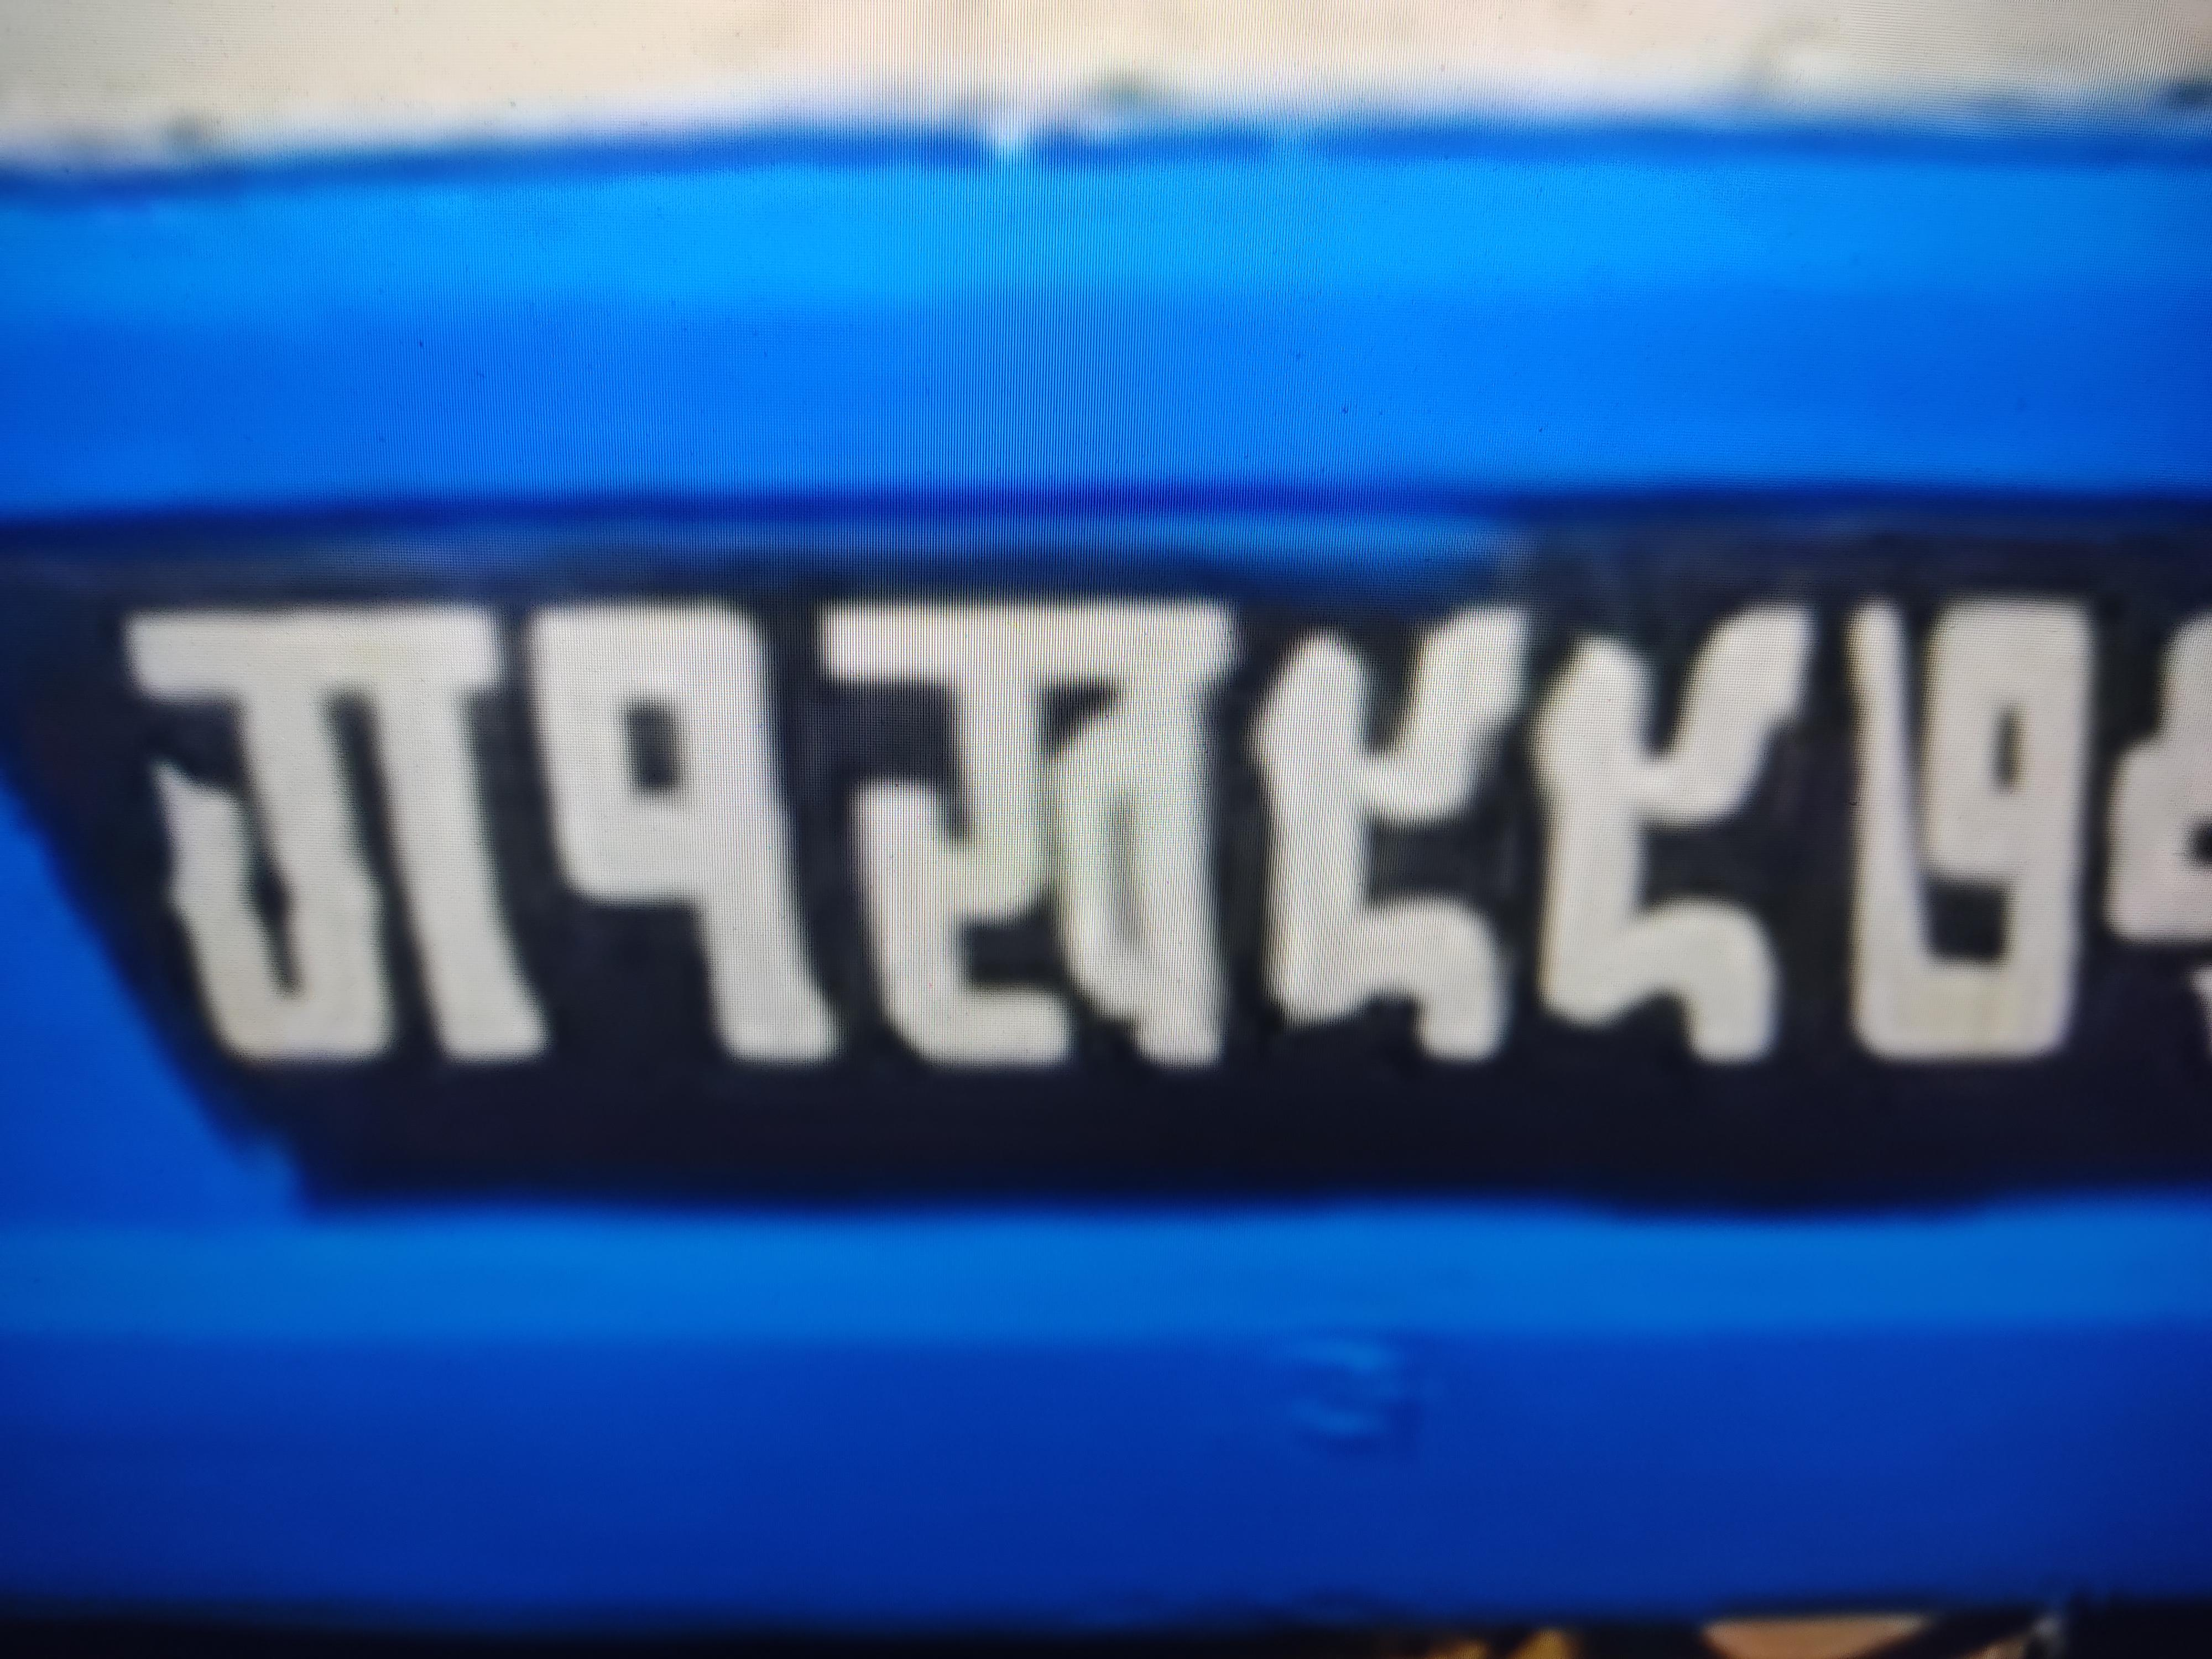1: (523, 587, 881, 1127)
3: (2083, 559, 2212, 1108)
7: (1806, 544, 2122, 1120)
9: (1517, 556, 1859, 1109), (1237, 598, 1525, 1093)
ga: (70, 562, 549, 1087)
kha: (816, 576, 1243, 1088)
